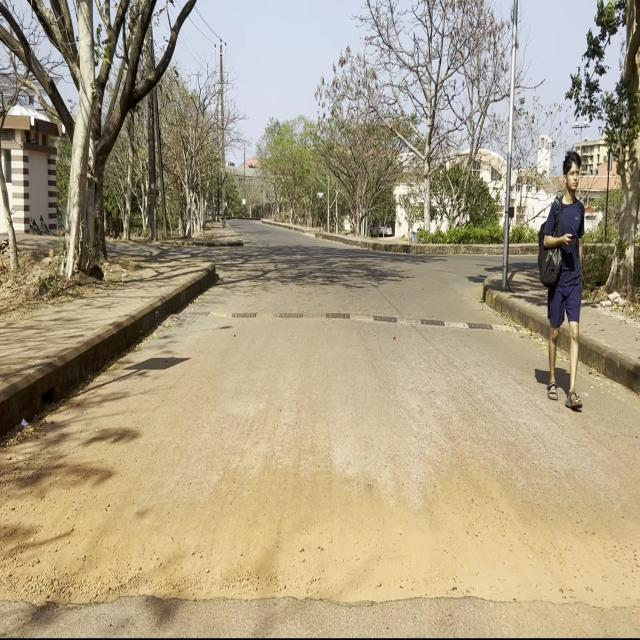Road: (2, 222, 635, 631)
